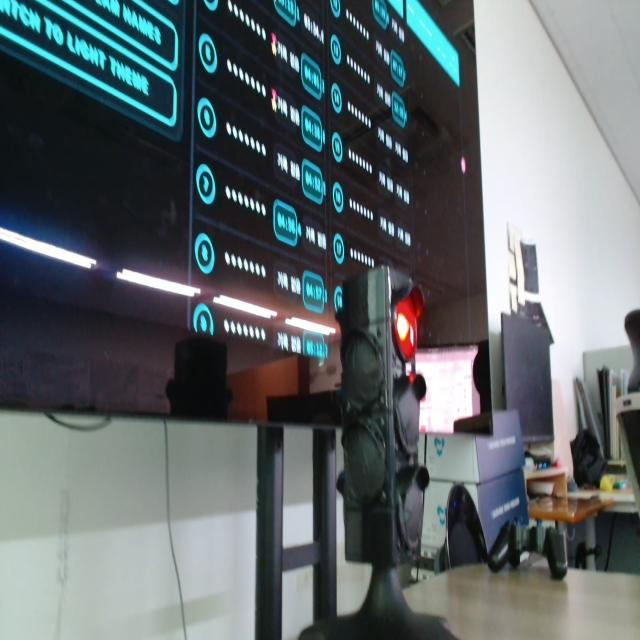red_light: (394, 288, 423, 361)
